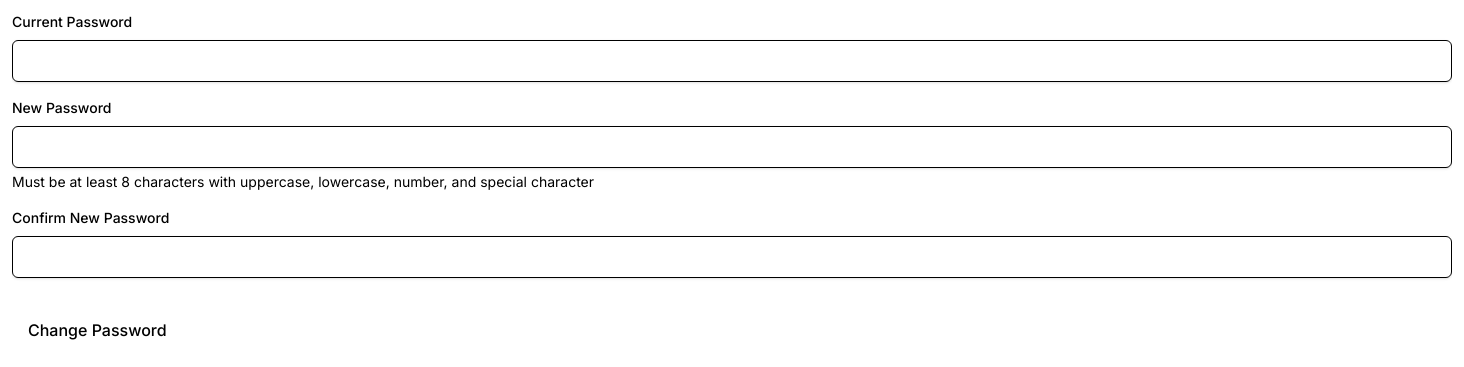
Test: ChangePasswordForm › shows validation error when new password lacks lowercase letter
Type "oldPassword123!" into the password field labelled "Current Password". click: (732, 61)
box: [12,40,1452,82]
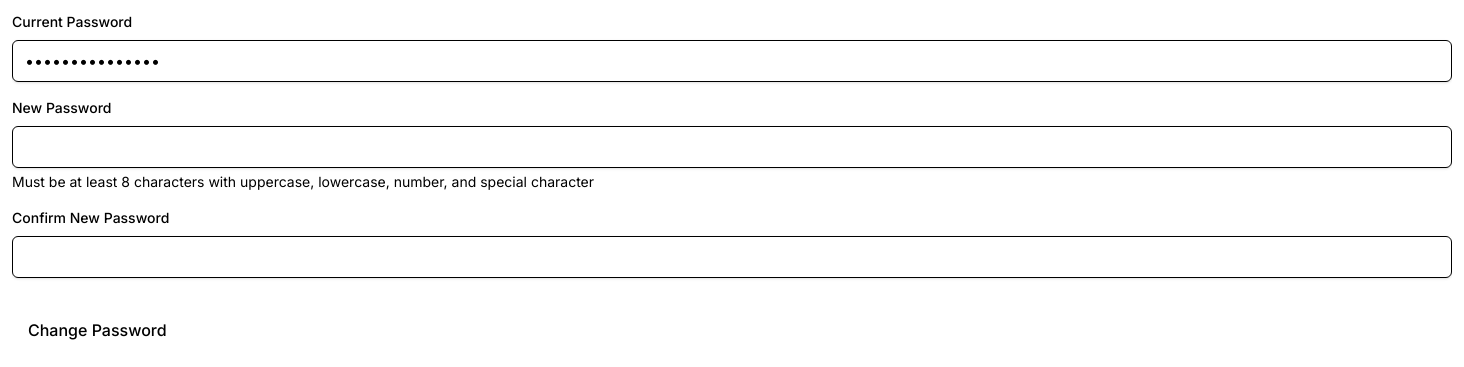
Type "NEWPASSWORD123!" into the password field labelled "New Password". click: (732, 147)
box: [12,126,1452,168]
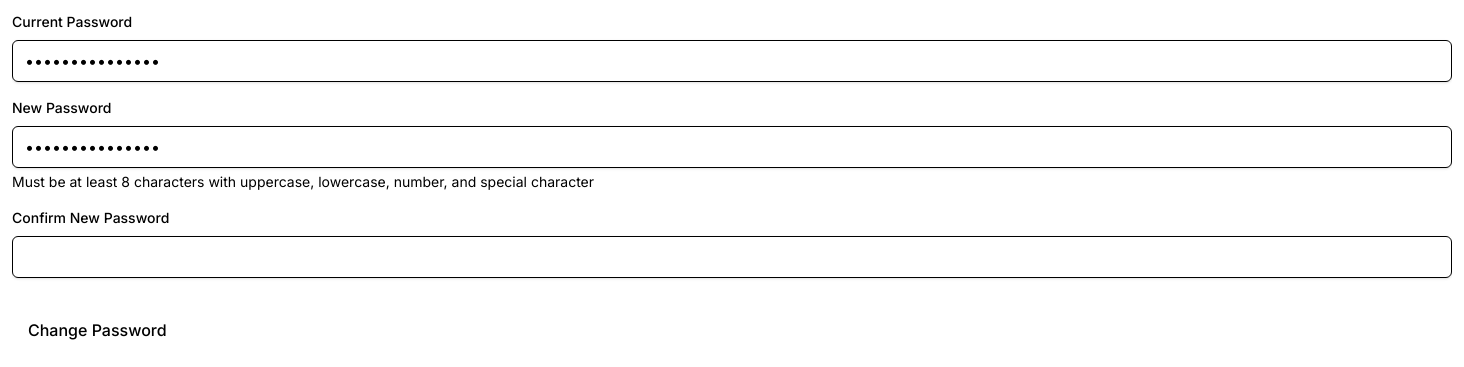
Type "NEWPASSWORD123!" into the password field labelled "Confirm New Password". click: (732, 257)
box: [12,236,1452,278]
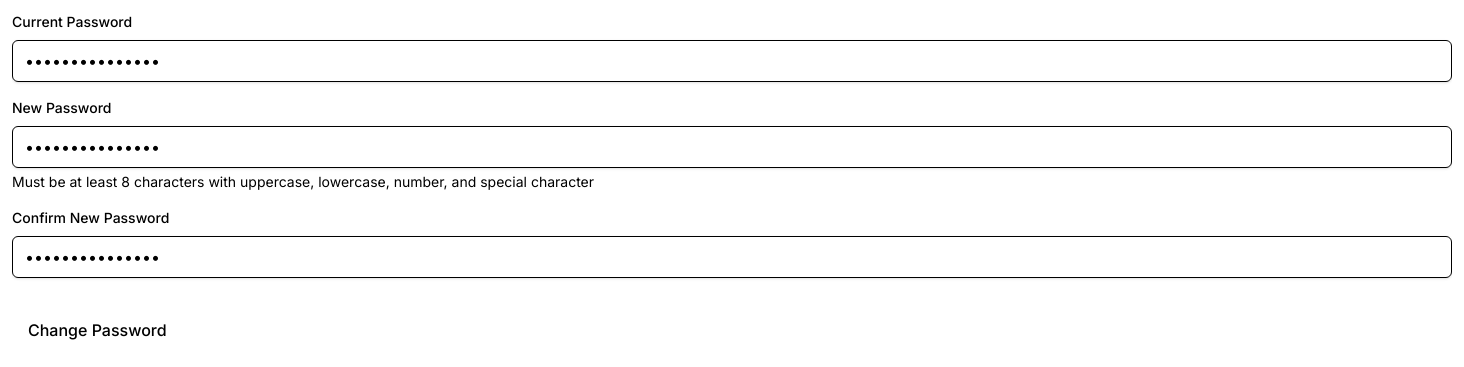
Click the button "Change Password". click: (97, 330)
box: [12,310,183,350]
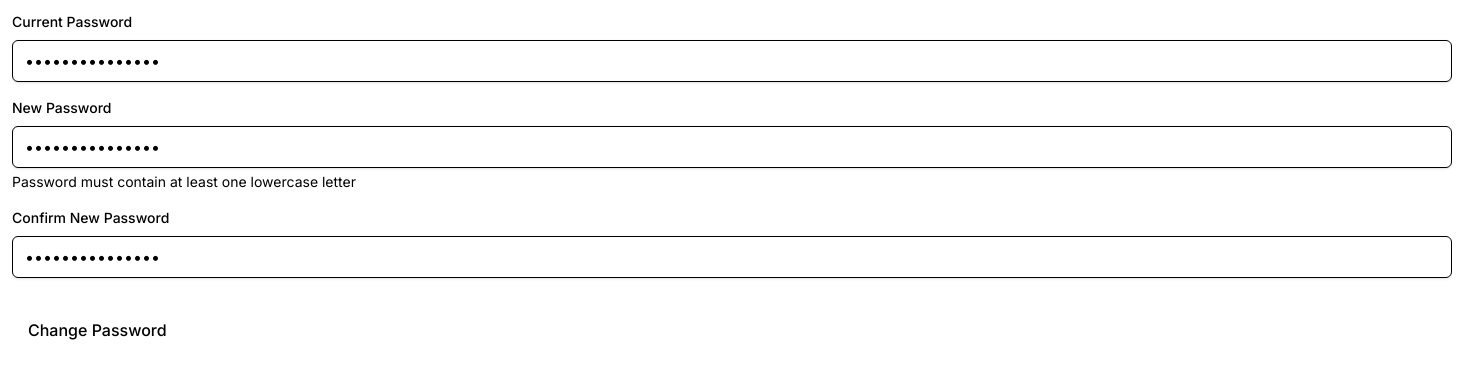
Result: the text "Password must contain at least one lowercase letter" is shown at [12,173,356,190]
